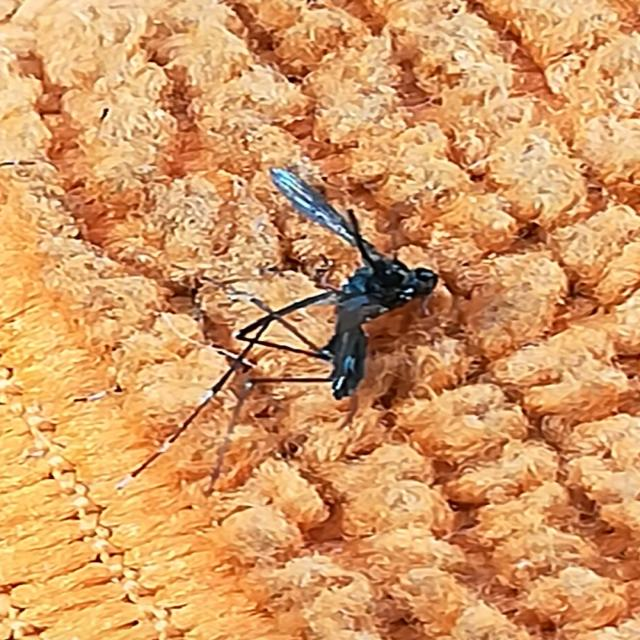albopictus: (89, 118, 553, 532)
